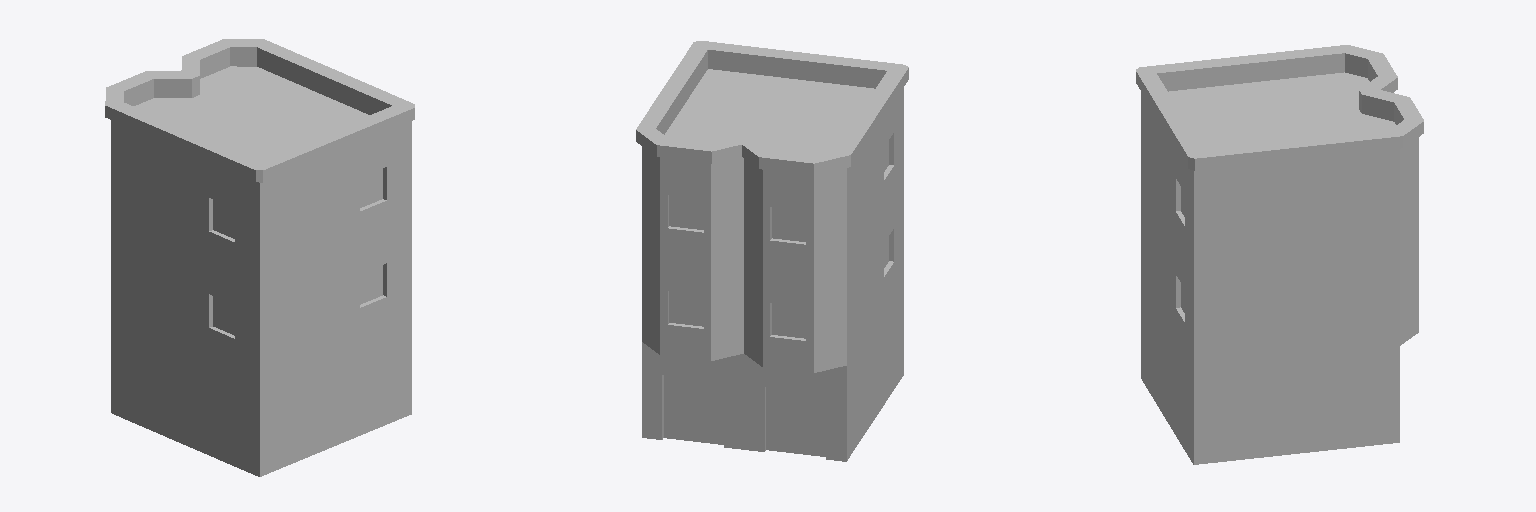
File: variant_2.obj
3 views of the same model, side by side, from view 1: azimuth 30°, elevation 25°; view 2: azimuth 150°, elevation 25°; view 3: azimuth 270°, elevation 25° (orthographic).
Visible parts, largest first — view 1: small_buildingA; view 2: small_buildingA; view 3: small_buildingA.
Part boxes in pixels (left/top/right/bottom): small_buildingA: left=105, top=39, right=414, bottom=476; small_buildingA: left=636, top=41, right=908, bottom=461; small_buildingA: left=1136, top=45, right=1423, bottom=464.
Size of the model in its own units: 1.01 by 1.28 by 1.09.